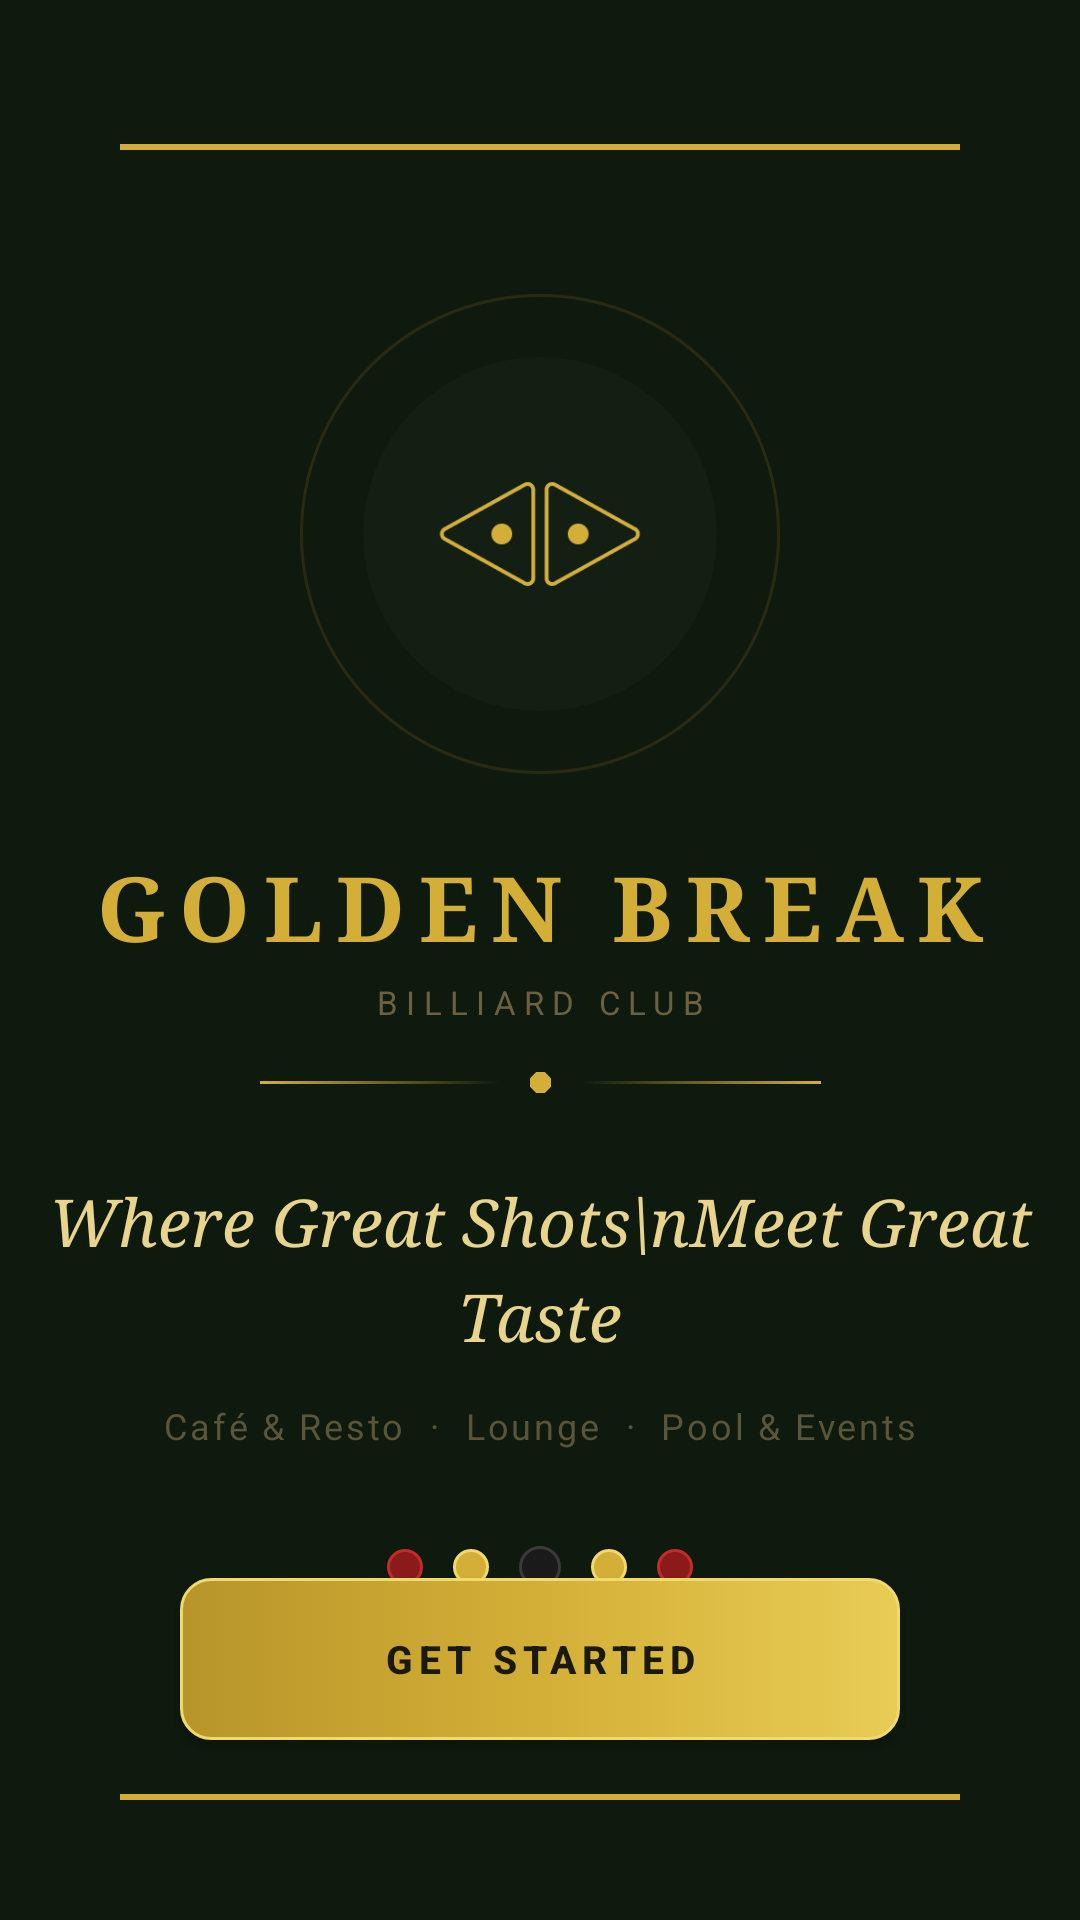

Point at icon controls on the screen. Image size 1080x1920, points as [x,y].
ball: [540,1567], [405,1567], [471,1567], [609,1567], [675,1567]
